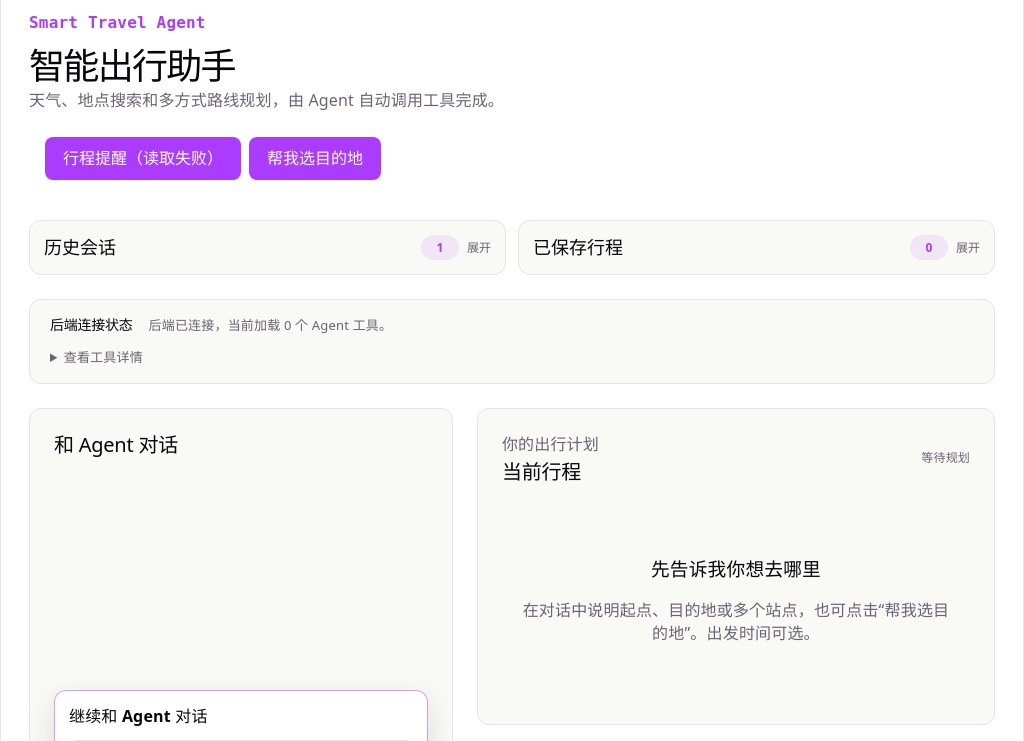
Scenario: 从后端重新打开历史会话时恢复其最后的当前路线
Click the button "历史会话 1 展开" at coordinates (80, 247), box [44, 235, 491, 260]
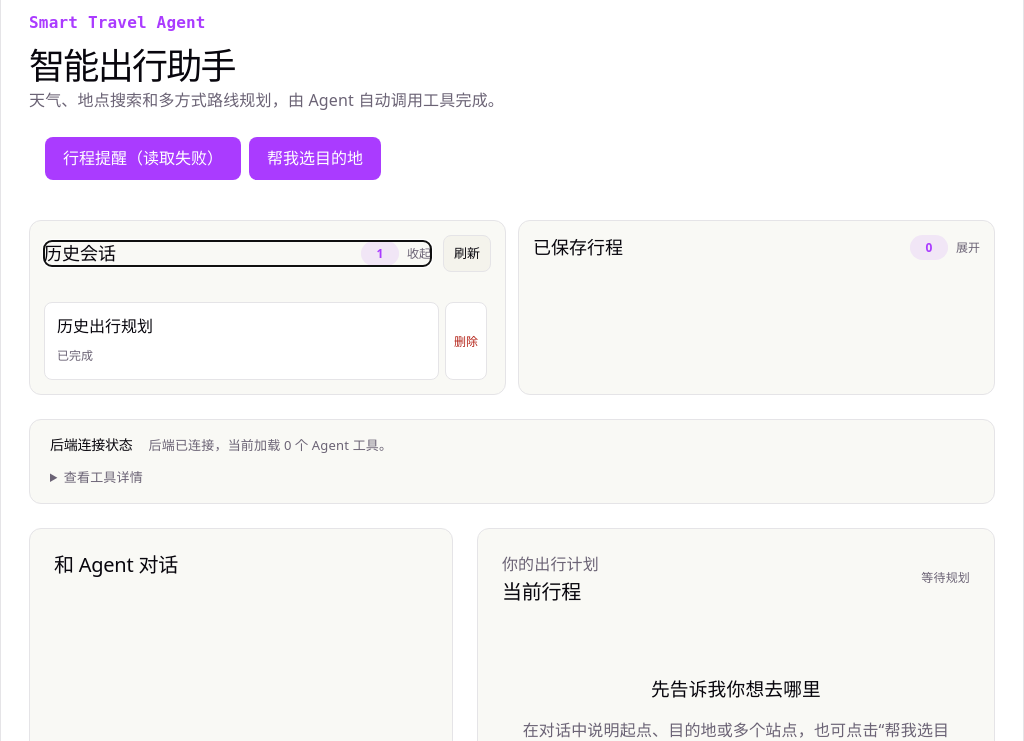
Click the button "历史出行规划 已完成" at coordinates (105, 326), box [44, 302, 439, 380]
(page scrolled)
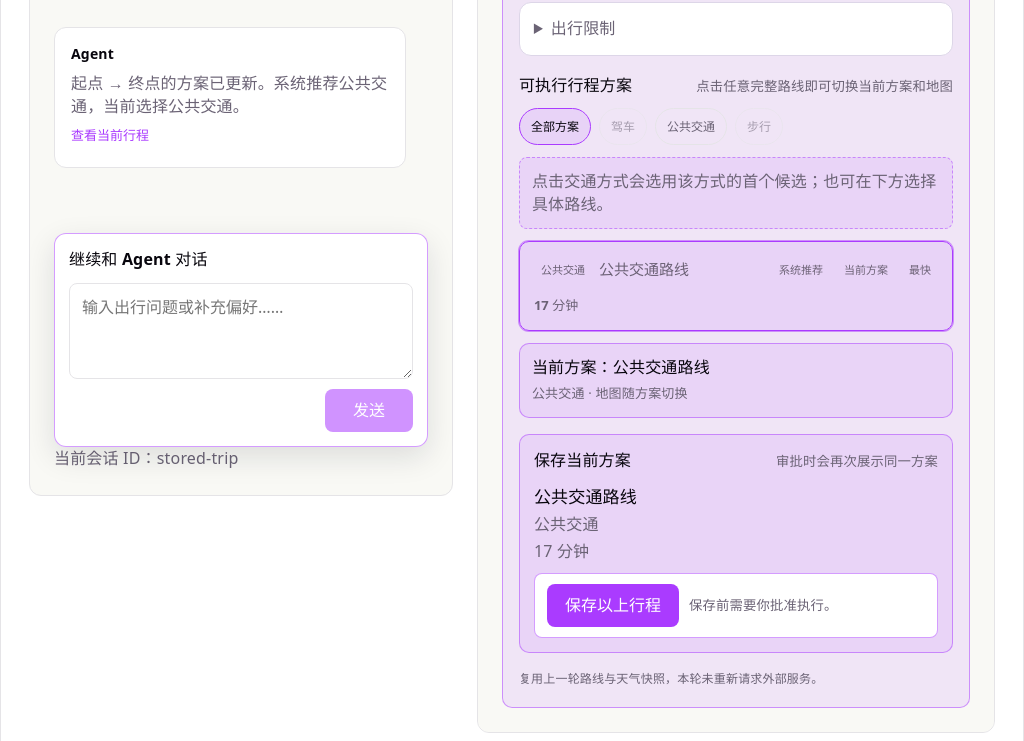
Result: the text "当前方案：公共交通路线" is shown at [532, 356, 710, 378]
